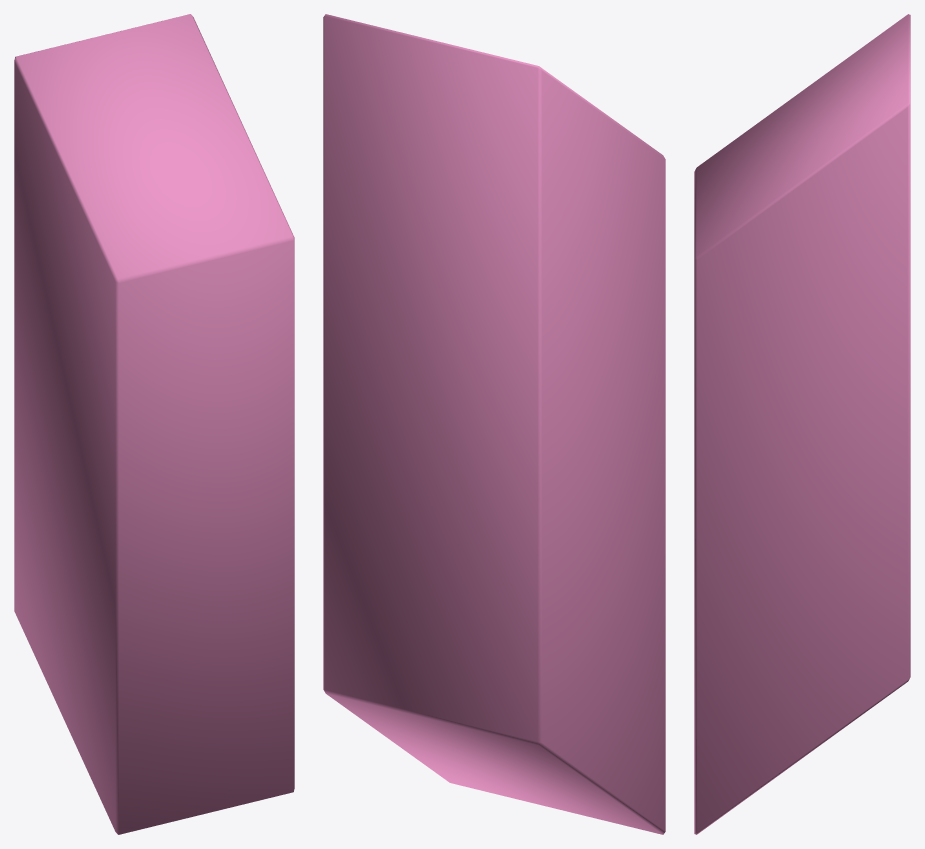
Rendered from Eraser.fbx.
3 renders of one model, left to right at view 1: azimuth 30°, elevation 25°; view 2: azimuth 150°, elevation 25°; view 3: azimuth 270°, elevation 25°, orthographic. The views are drawn at different scales.
Parts seen in each view (by area): view 1: Eraser; view 2: Eraser; view 3: Eraser.
Boxes of the visible parts, x1,y1,x2,y2 form: Eraser: [14, 14, 294, 834]; Eraser: [323, 14, 665, 834]; Eraser: [694, 14, 910, 834].
Size of the model in its own units: 62.06 by 233 by 62.25.
